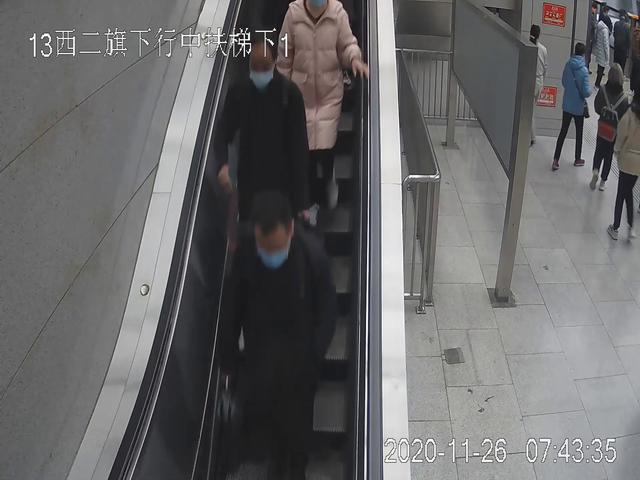person: (221, 199, 336, 480), (214, 40, 310, 317), (276, 1, 370, 223), (553, 41, 589, 173), (609, 90, 640, 239), (592, 64, 623, 190), (592, 15, 613, 88)
